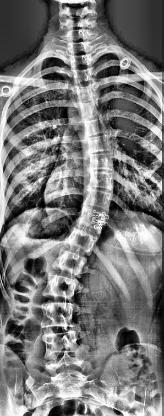Vertebrae: (42, 331, 88, 361), (42, 272, 84, 302), (73, 206, 112, 236), (40, 300, 78, 330), (60, 227, 100, 255), (52, 249, 88, 278), (81, 186, 113, 212), (86, 168, 116, 192), (82, 116, 110, 140), (70, 83, 98, 105), (72, 100, 100, 122), (89, 150, 115, 172), (71, 66, 97, 86), (86, 134, 112, 154), (68, 54, 94, 70), (66, 41, 93, 55)
